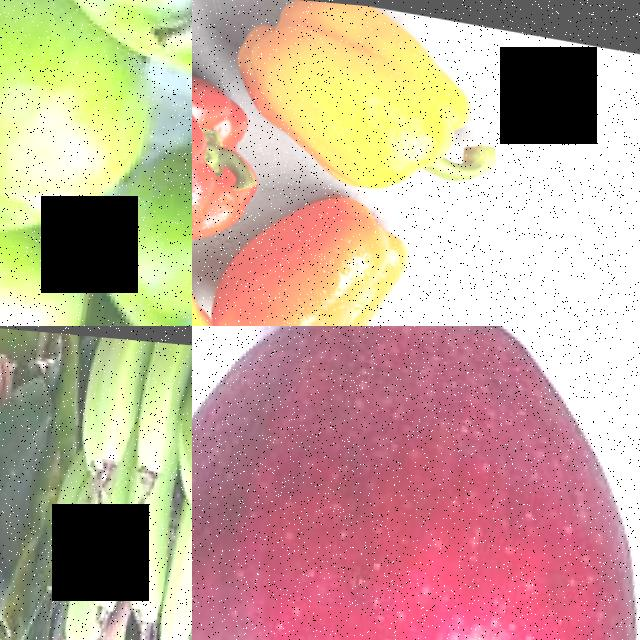apple: (192, 326, 640, 640), (0, 2, 159, 255), (1, 0, 192, 119), (75, 228, 192, 326)
banana: (59, 330, 192, 527), (47, 495, 192, 640)
bell pepper: (275, 2, 521, 201), (218, 185, 430, 326), (192, 57, 252, 247)
